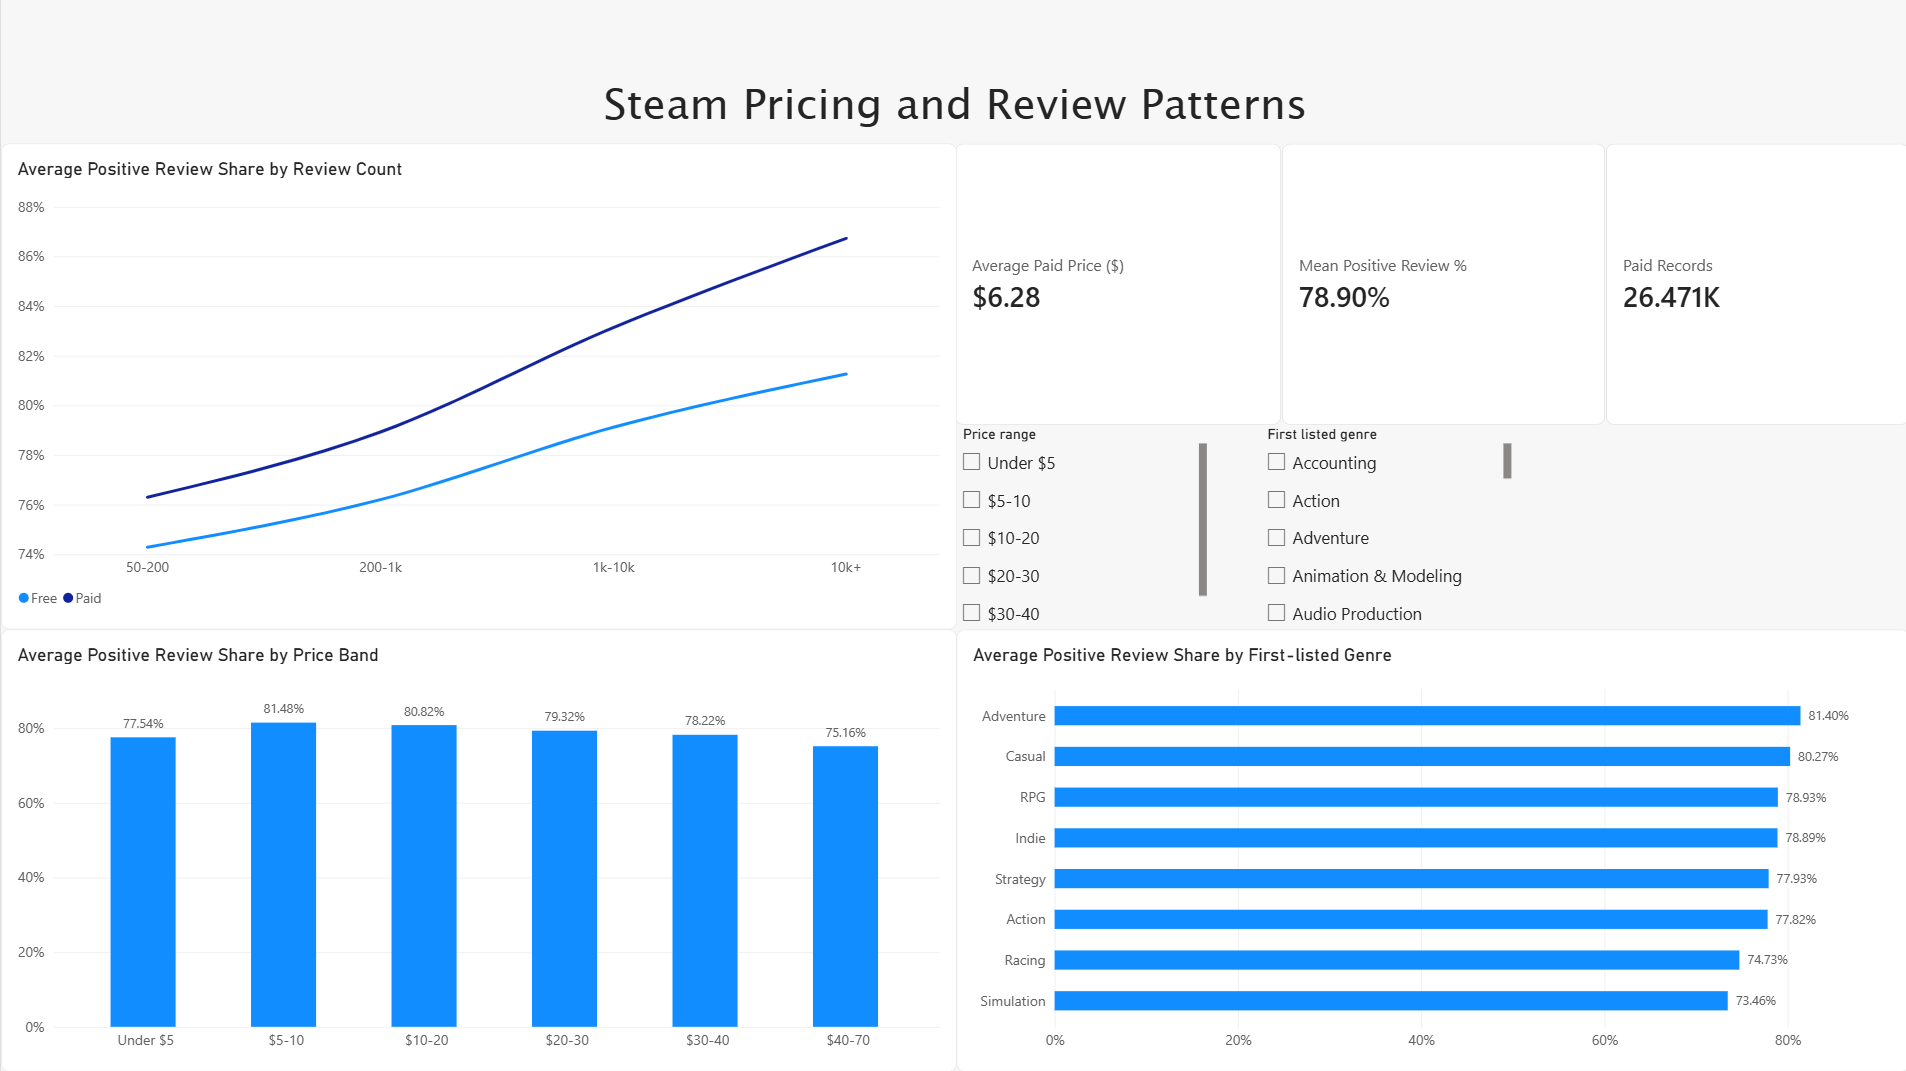

The dashboard page shown, as its layout file describes it:
{"tool":"powerbi","page":{"name":"Page 1","canvas":[1920,1080],"ordinal":0},"visuals":[{"type":"clusteredColumnChart","title":"Average Positive Review Share by Price Band","fields":{"Y":["Avg(games_clean.review_score)"],"Category":["games_clean.price_band"]},"box":[0,634.4,961.2,445],"z":0},{"type":"clusteredBarChart","title":"Average Positive Review Share by First-listed Genre","fields":{"Category":["games_clean.main_genre"],"Y":["Avg(games_clean.review_score)"]},"box":[961.2,634.4,959.4,445],"z":1000},{"type":"cardVisual","fields":{"Data":["CountNonNull(games_clean.Name)"]},"box":[1614.3,146.3,306.3,283.6],"z":2000},{"type":"cardVisual","fields":{"Data":["Avg(games_clean.review_score)"]},"box":[1288.4,146.3,325.9,283.6],"z":3000},{"type":"cardVisual","fields":{"Data":["Avg(games_clean.Price)"]},"box":[959.5,146.3,328.9,283.6],"z":4000},{"type":"textbox","box":[0,0,1920.6,146],"z":5000},{"type":"slicer","fields":{"Values":["games_clean.price_band"]},"box":[959.5,430,253.5,205.2],"z":6000},{"type":"slicer","fields":{"Values":["games_clean.main_genre"]},"box":[1265.8,430,253.5,205.2],"z":7000},{"type":"lineChart","title":"Average Positive Review Share by Review Count","fields":{"Category":["free_vs_paid.review_bucket"],"Y":["Avg(free_vs_paid.review_score)"],"Series":["free_vs_paid.type"]},"box":[0,146,961.2,488.4],"z":8000}]}

Visuals, with their boxes in screenshot pixels (x1, y1, x2, y2), scaled from the page's 1920x1080 canvas onto the 1906x1071 screenshot:
"Average Positive Review Share by Price Band" clusteredColumnChart: Rect(0, 629, 954, 1070)
"Average Positive Review Share by First-listed Genre" clusteredBarChart: Rect(954, 629, 1905, 1070)
cardVisual - CountNonNull(games_clean.Name): Rect(1603, 145, 1905, 426)
cardVisual - Avg(games_clean.review_score): Rect(1279, 145, 1603, 426)
cardVisual - Avg(games_clean.Price): Rect(953, 145, 1279, 426)
textbox: Rect(0, 0, 1905, 145)
slicer - games_clean.price_band: Rect(953, 426, 1204, 630)
slicer - games_clean.main_genre: Rect(1257, 426, 1508, 630)
"Average Positive Review Share by Review Count" lineChart: Rect(0, 145, 954, 629)
